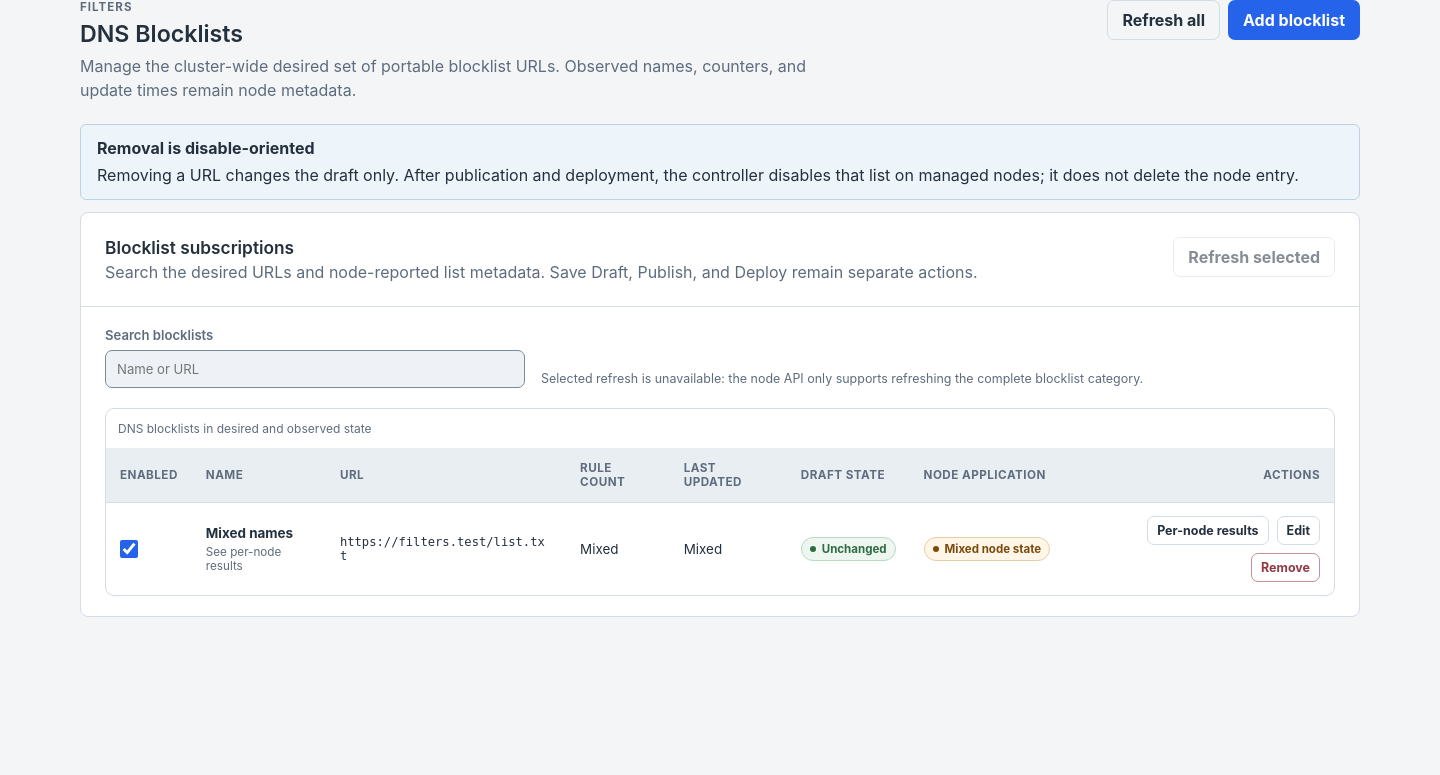
Test: DNS blocklists page › runs audited refresh-all with visible partial per-node results
What coordinates should you click on to do the following:
click the button "Refresh all"
I would click on:
 (1164, 20)
Its box is [1108,0,1220,40].
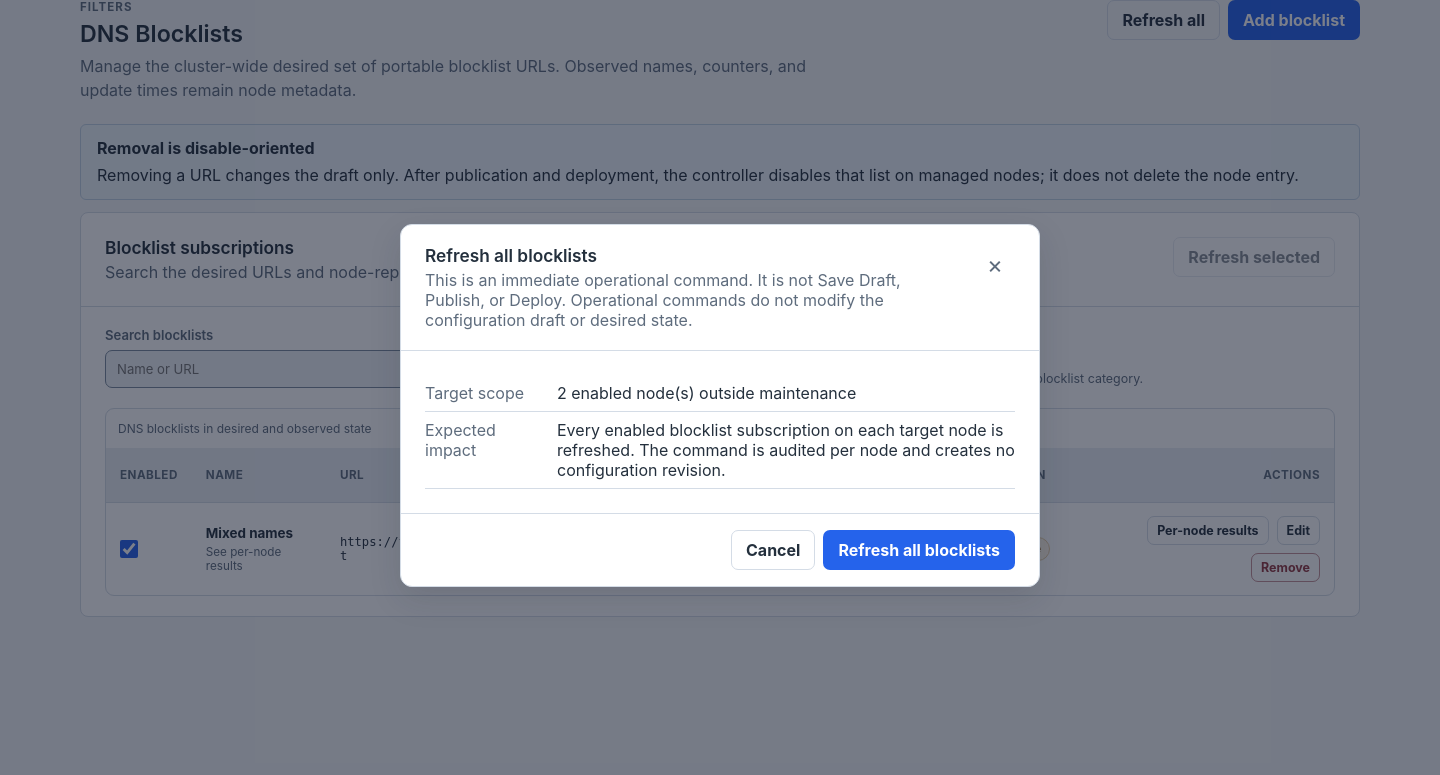
expect the text "creates no configuration revision" is shown: met, box [557,420,1015,480]
What coordinates should you click on to do the following:
click the button "Refresh all blocklists"
I would click on:
 (919, 550)
Its box is [823,530,1015,570].
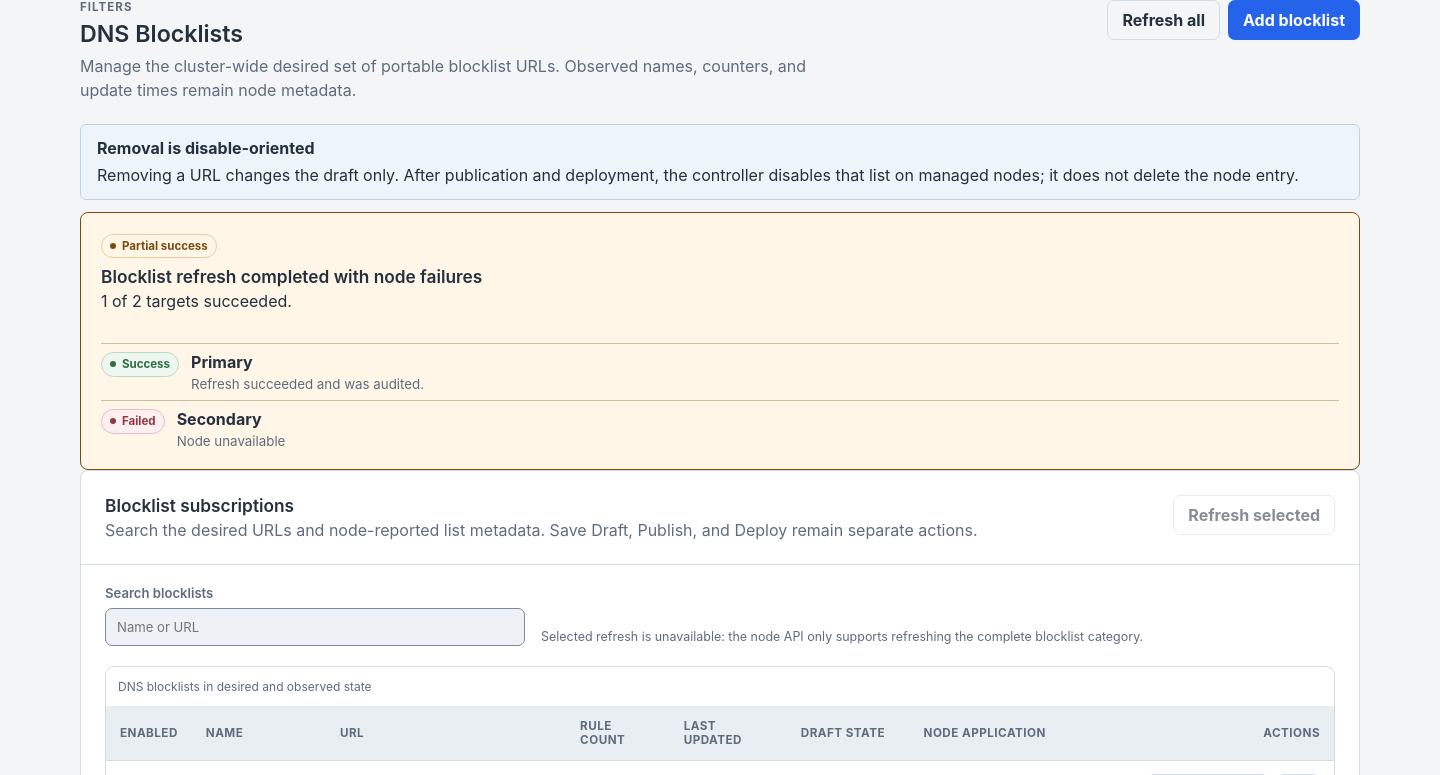
expect the button "Refresh selected" is disabled: met, box [1173,495,1335,535]
expect the heading "Blocklist refresh completed with node failures" is shown: met, box [101,266,482,287]
expect the text "Node unavailable" is shown: met, box [177,433,285,449]
